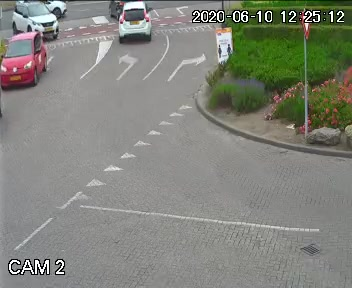car: (2, 28, 49, 89), (10, 3, 71, 39), (111, 6, 155, 46)
